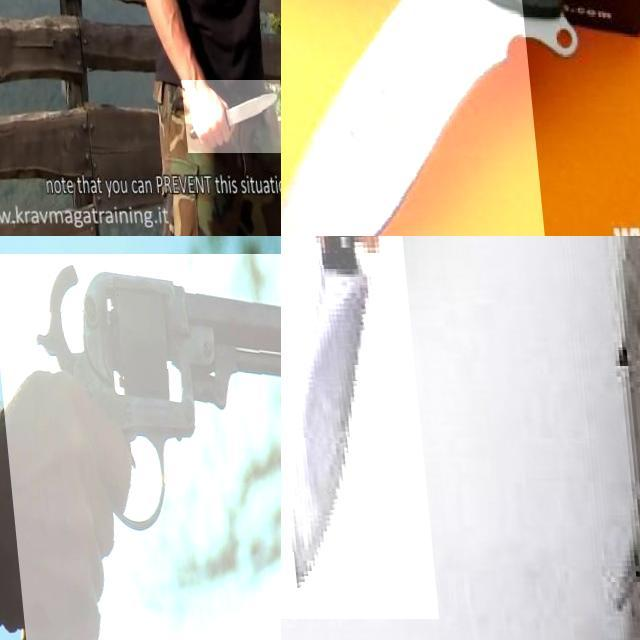-: (281, 0, 537, 236), (281, 236, 427, 619), (172, 80, 276, 153)
gun-knife-thesis - v11 Yolov5 augmented: (0, 254, 281, 640)
